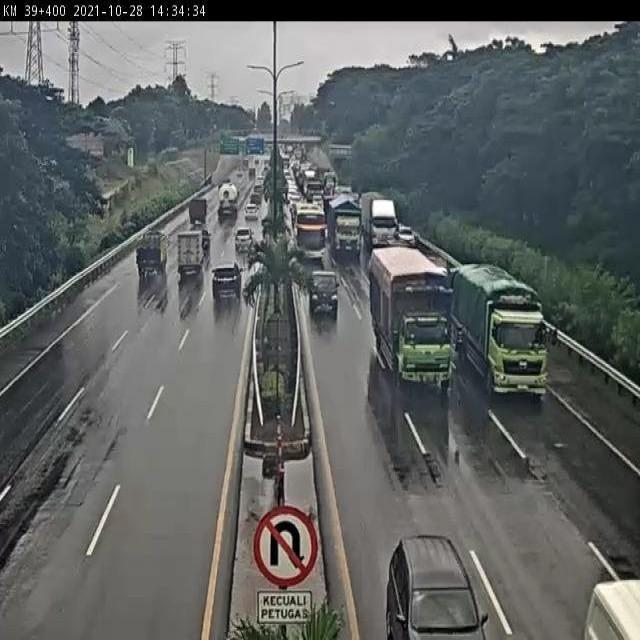big bus: (294, 203, 329, 265)
big truck: (453, 257, 557, 400), (370, 252, 456, 395), (327, 193, 365, 264), (366, 188, 399, 252)
car: (382, 533, 490, 640), (172, 226, 208, 286), (305, 265, 340, 320), (137, 227, 170, 280), (210, 262, 247, 302), (395, 219, 418, 252), (231, 223, 252, 253)
